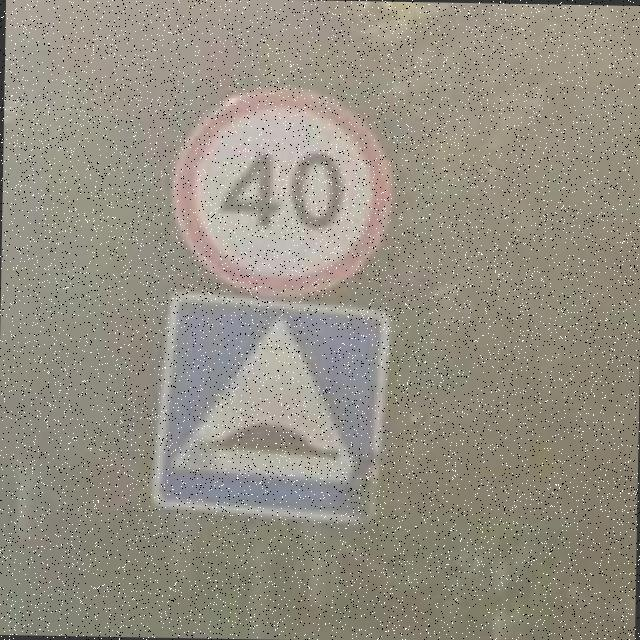Ograniczenie predkosci do 40: (170, 78, 396, 306)
